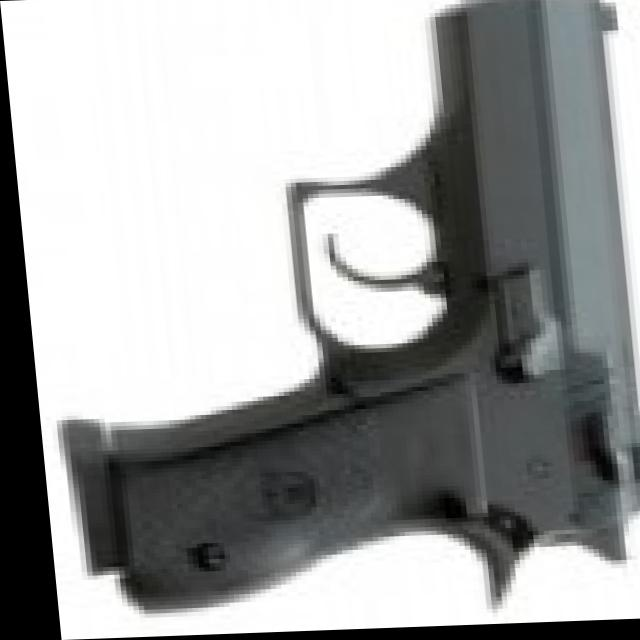handgun: (22, 0, 640, 623)
